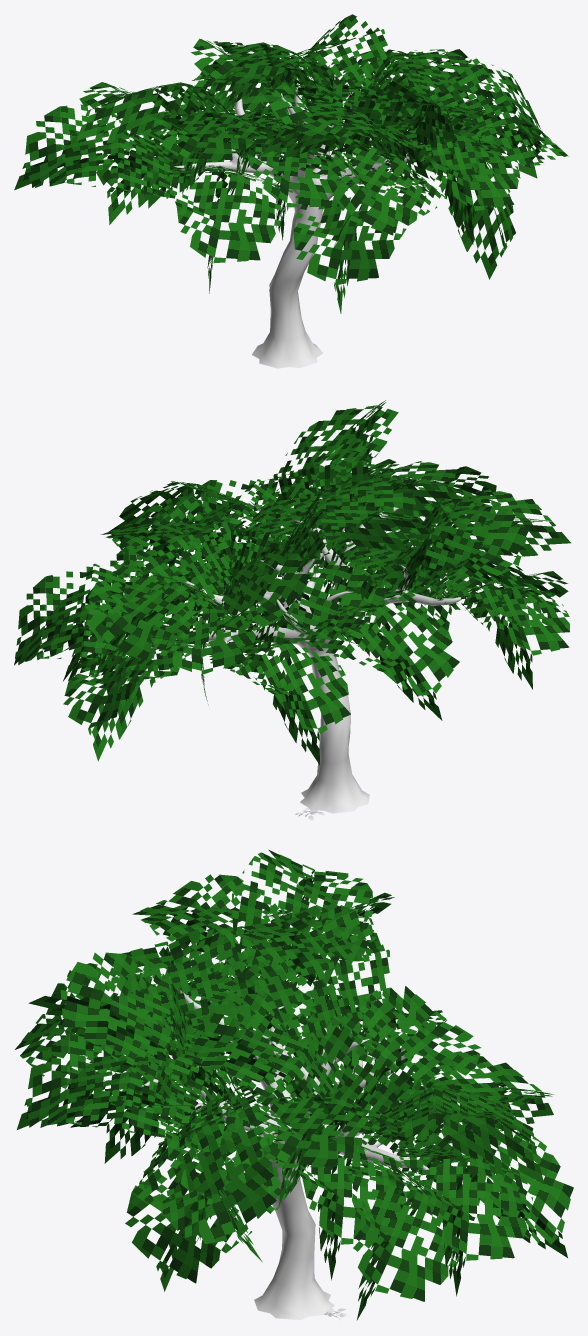
Rendered from bardes_arvore_final.dae.
The picture shows the model from 3 angles, top to bottom: view 1: azimuth 30°, elevation 25°; view 2: azimuth 150°, elevation 25°; view 3: azimuth 270°, elevation 25°; orthographic projection. The views are drawn at different scales.
Visible parts, largest first — view 1: Galho Tex.044, Arvore, Galho Tex.023, Galho Tex.001, Galho Tex.031, Galho Tex.020, Galho Tex.024, Galho Tex.016, Galho Tex.019, Galho Tex.026, Galho Tex.009, Galho Tex.018 (+10 smaller); view 2: Galho Tex.044, Arvore, Galho Tex.009, Galho Tex.006, Galho Tex.025, Galho Tex.007, Galho Tex.018, Galho Tex.023, Galho Tex.014, Galho Tex.008, Galho Tex.013, Galho Tex.028 (+13 smaller); view 3: Galho Tex.044, Galho Tex.001, Galho Tex.008, Arvore, Galho Tex.013, Galho Tex.018, Galho Tex.025, Galho Tex.016, Galho Tex.020, Galho Tex.010, Galho Tex.003, Galho Tex.004 (+14 smaller).
Boxes of the visible parts, <box> form: Galho Tex.044: <box>14,38,568,293</box>; Arvore: <box>174,77,458,368</box>; Galho Tex.023: <box>25,102,175,198</box>; Galho Tex.001: <box>429,58,567,165</box>; Galho Tex.031: <box>293,171,426,313</box>; Galho Tex.020: <box>263,85,402,176</box>; Galho Tex.024: <box>163,165,292,260</box>; Galho Tex.016: <box>402,133,517,244</box>; Galho Tex.019: <box>329,137,446,235</box>; Galho Tex.026: <box>228,140,354,240</box>; Galho Tex.009: <box>270,14,392,109</box>; Galho Tex.018: <box>360,81,486,168</box>; Galho Tex.044: <box>15,415,570,755</box>; Arvore: <box>151,501,460,813</box>; Galho Tex.009: <box>84,561,234,678</box>; Galho Tex.006: <box>203,638,350,765</box>; Galho Tex.025: <box>401,493,542,593</box>; Galho Tex.007: <box>63,641,209,761</box>; Galho Tex.018: <box>273,400,398,532</box>; Galho Tex.023: <box>449,582,569,689</box>; Galho Tex.014: <box>279,484,431,578</box>; Galho Tex.008: <box>209,533,310,628</box>; Galho Tex.013: <box>215,499,350,603</box>; Galho Tex.028: <box>323,520,455,612</box>; Galho Tex.044: <box>17,856,569,1320</box>; Galho Tex.001: <box>139,1085,276,1262</box>; Galho Tex.008: <box>306,986,481,1144</box>; Arvore: <box>140,988,429,1319</box>; Galho Tex.013: <box>184,994,347,1140</box>; Galho Tex.018: <box>60,952,198,1089</box>; Galho Tex.025: <box>232,849,375,997</box>; Galho Tex.016: <box>27,1038,197,1141</box>; Galho Tex.020: <box>111,936,257,1093</box>; Galho Tex.010: <box>248,1096,405,1189</box>; Galho Tex.003: <box>271,1132,404,1280</box>; Galho Tex.004: <box>392,1146,529,1295</box>.
Size of the model in its own units: 6.61 by 5.63 by 4.2.
3 materials, 1 textured.
